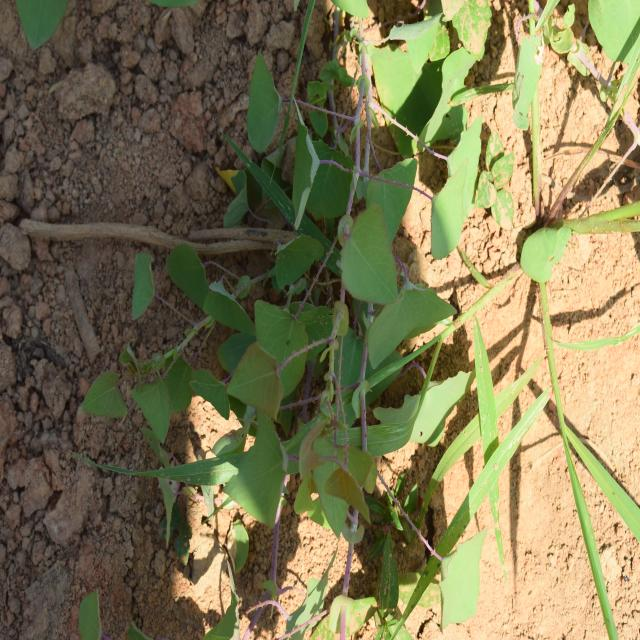Asiatic_Smartweed: (250, 66, 464, 350), (233, 304, 384, 532), (101, 258, 249, 450), (433, 523, 491, 634)
